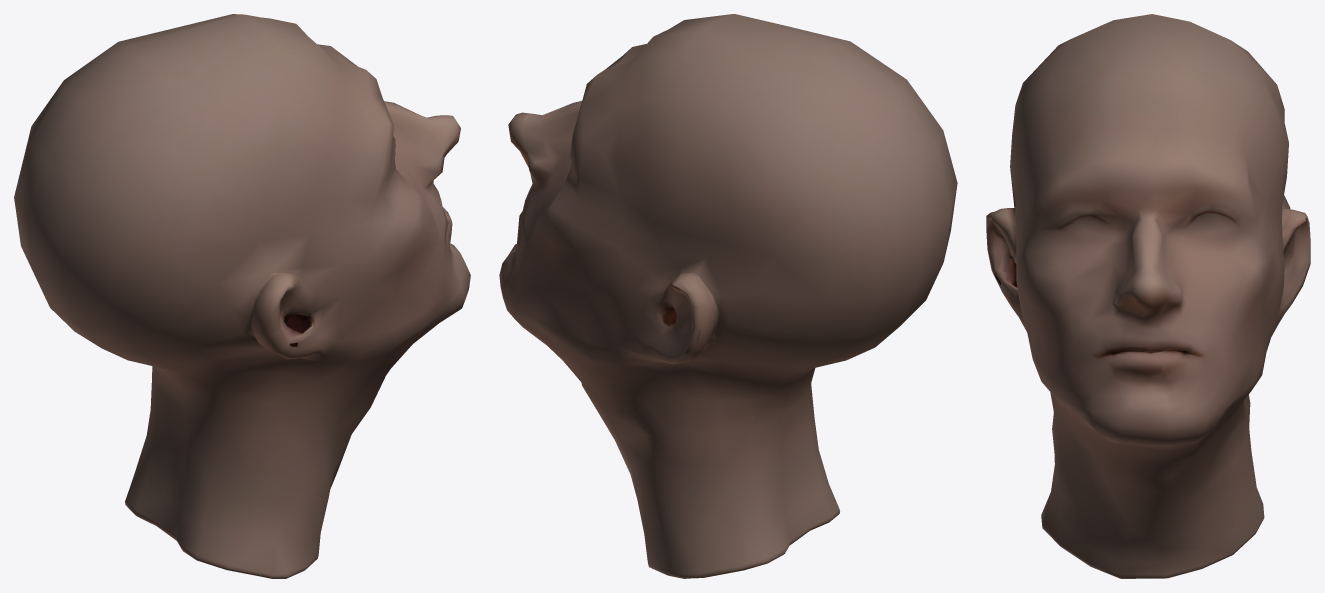
The model's file is source.glb.
The picture shows the model from 3 angles, left to right: view 1: azimuth 30°, elevation 25°; view 2: azimuth 150°, elevation 25°; view 3: azimuth 270°, elevation 25°; orthographic projection. The views are drawn at different scales.
Visible parts, largest first — view 1: tripo_node_4724af2f-950c-4c80-8d1e-1016b9d387c0; view 2: tripo_node_4724af2f-950c-4c80-8d1e-1016b9d387c0; view 3: tripo_node_4724af2f-950c-4c80-8d1e-1016b9d387c0.
Part boxes in pixels (bbox=[...]): tripo_node_4724af2f-950c-4c80-8d1e-1016b9d387c0: bbox=[14, 14, 470, 578]; tripo_node_4724af2f-950c-4c80-8d1e-1016b9d387c0: bbox=[499, 14, 957, 578]; tripo_node_4724af2f-950c-4c80-8d1e-1016b9d387c0: bbox=[986, 14, 1310, 578].
Bounding box in the file's own units: 0.8415 × 1 × 0.589.
Materials: 1 (1 with a texture image).
